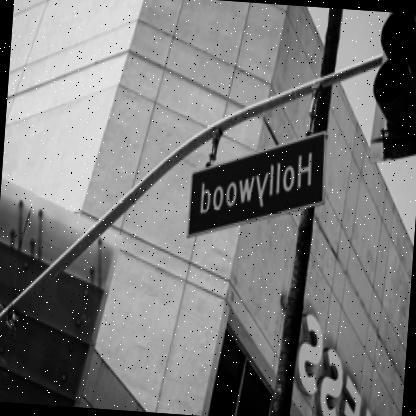trafficlight: (367, 11, 415, 168)
